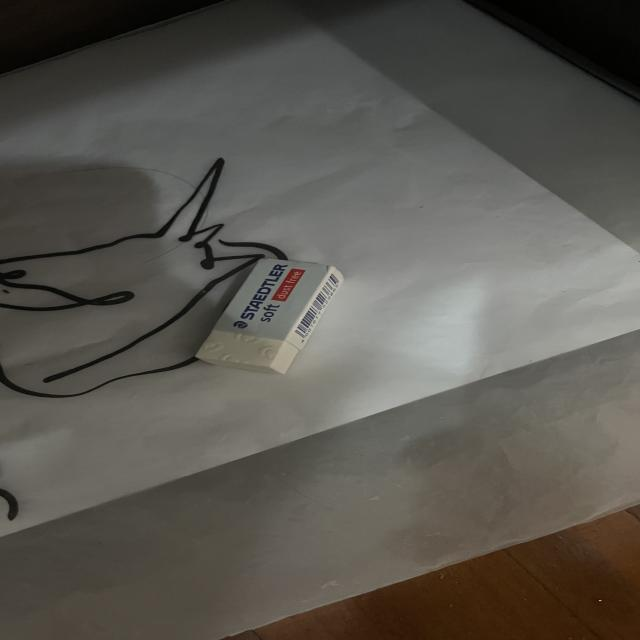eraser: (195, 254, 343, 373)
